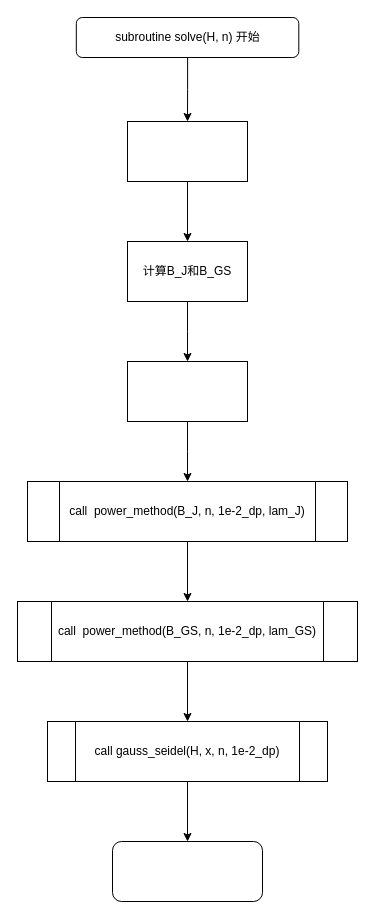
The diagram is 375 pixels wide and 919 high, and some of its shapes have lost their labels. Each missing label, with the box of its shape:
subroutine solve 结束: (112, 840, 262, 902)
初始化lam_J和lam_GS: (126, 360, 248, 422)
初始化并计算D，L，U: (126, 120, 248, 182)
